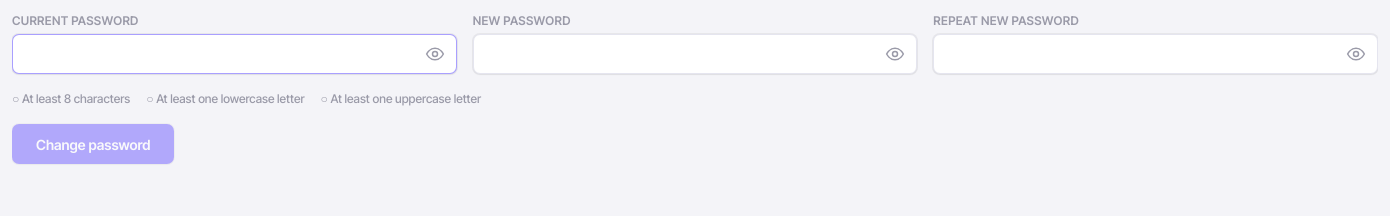
Test case: PasswordForm — what it refuses to send › will not submit while the repeat disagrees
This screenshot has width=1390, height=216.
Type "old-one" into the password field labelled "Current password". click: (234, 54)
box: x1=12 y1=34 x2=457 y2=74
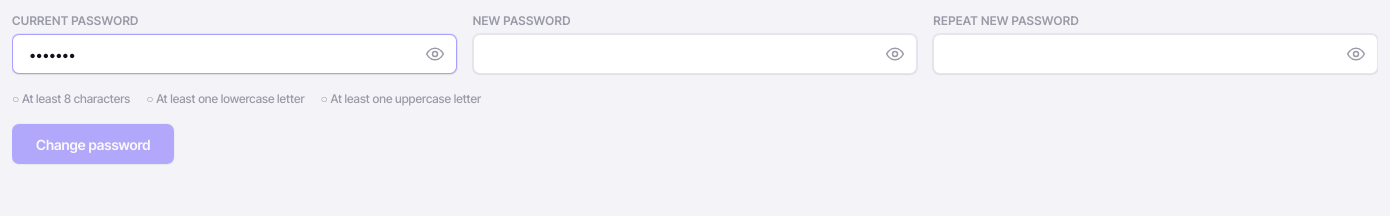
Type "Horosho-2026" into the password field labelled "New password". click: (695, 54)
box: x1=473 y1=34 x2=917 y2=74
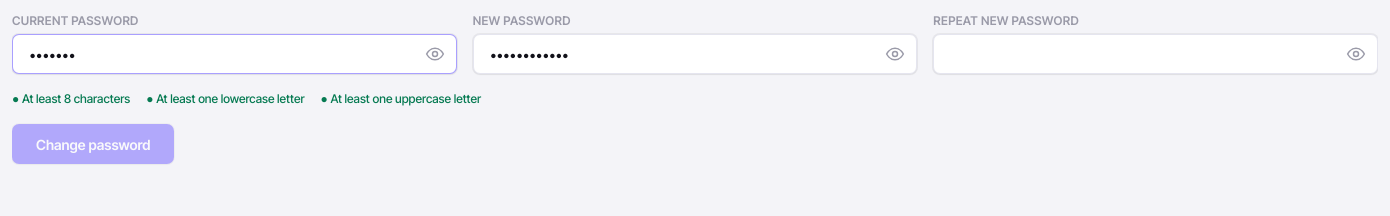
Type "Horosho-202" into the password field labelled "Repeat new password". click: (1156, 54)
box: x1=933 y1=34 x2=1378 y2=74
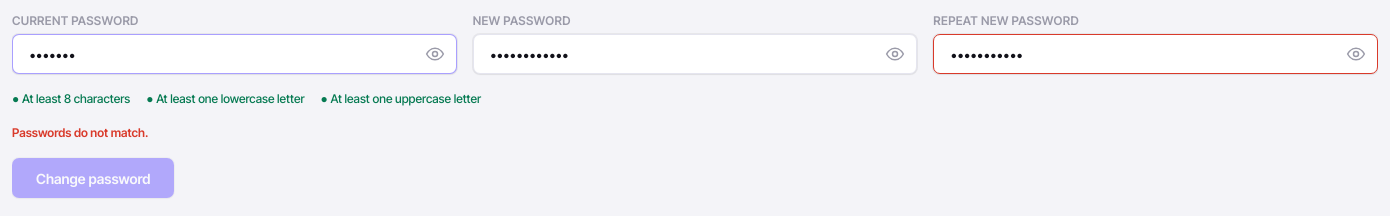
Expected: the submit button is disabled, x1=12 y1=158 x2=174 y2=198
Expected: the text "Passwords do not match" is shown, x1=12 y1=125 x2=148 y2=140
